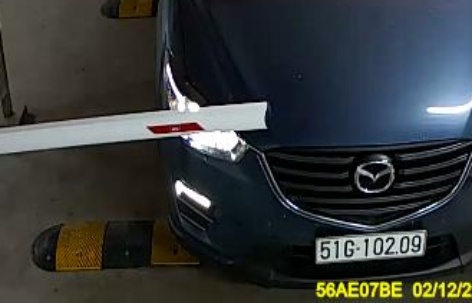plate: (307, 224, 434, 266)
